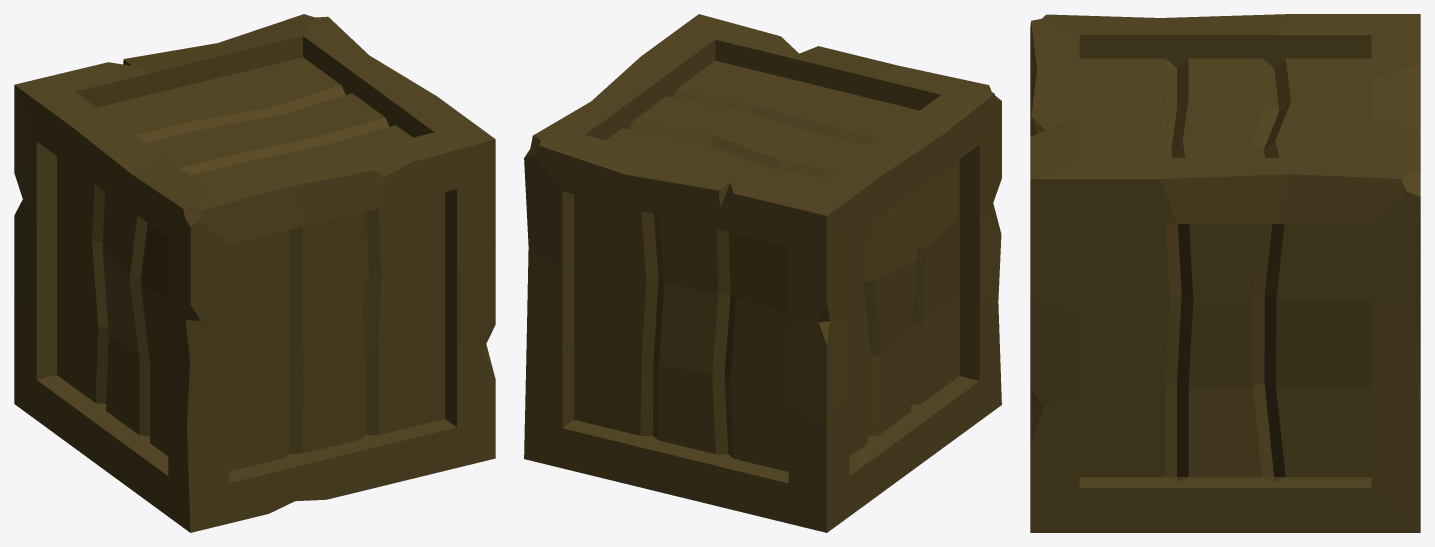
The model's file is crate.fbx.
3 views of the same model, side by side, from view 1: azimuth 30°, elevation 25°; view 2: azimuth 150°, elevation 25°; view 3: azimuth 270°, elevation 25° (orthographic). The views are drawn at different scales.
Parts seen in each view (by area): view 1: crate; view 2: crate; view 3: crate.
Boxes of the visible parts, box(x1,y1,x2,y2) form: crate: box(14, 14, 495, 532); crate: box(524, 14, 1001, 532); crate: box(1030, 14, 1420, 532).
Size of the model in its own units: 120 by 120 by 120.
